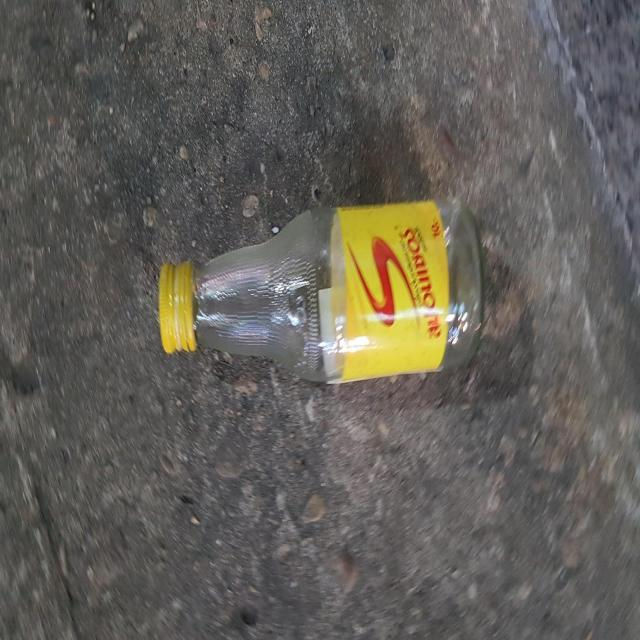glass: (159, 200, 484, 382)
